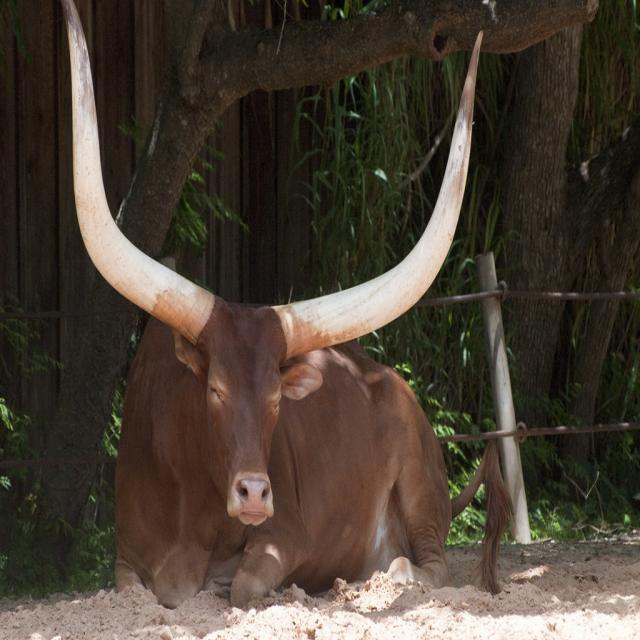Cattle: (62, 0, 518, 608)
